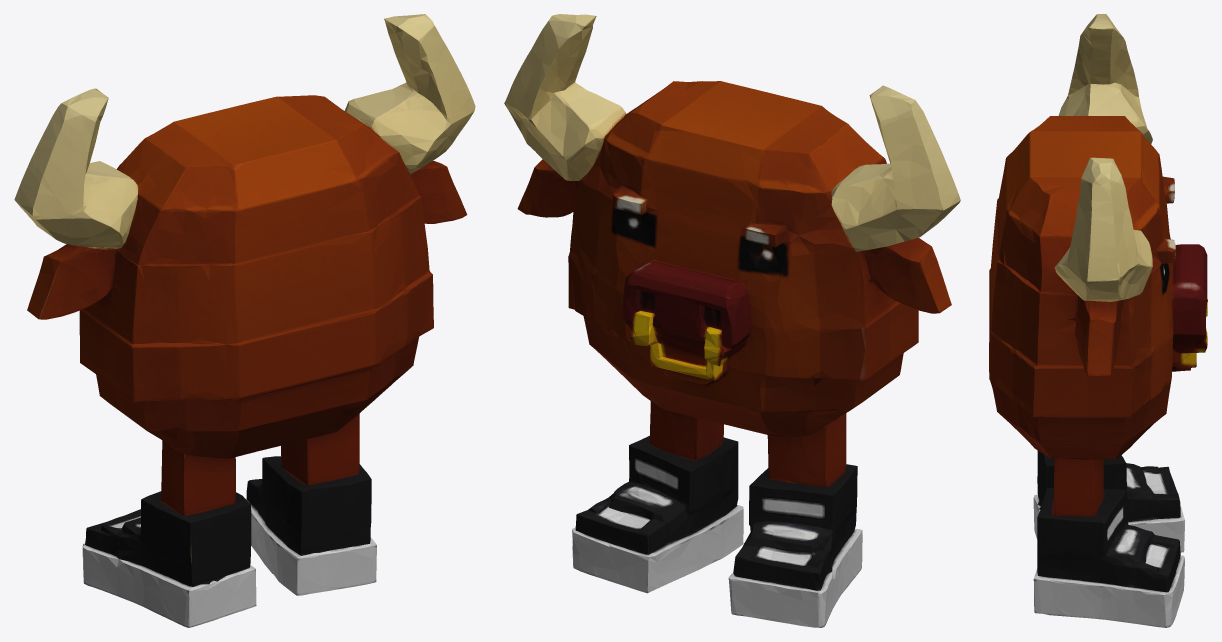
Rendered from ToroPalloncino.glb.
3 renders of one model, left to right at view 1: azimuth 30°, elevation 25°; view 2: azimuth 150°, elevation 25°; view 3: azimuth 270°, elevation 25°, orthographic. The views are drawn at different scales.
Parts seen in each view (by area): view 1: geometry_0; view 2: geometry_0; view 3: geometry_0.
Boxes of the visible parts, <box> form: geometry_0: <box>14,14,475,627</box>; geometry_0: <box>504,14,960,627</box>; geometry_0: <box>989,14,1207,627</box>.
Size of the model in its own units: 0.8899 by 1 by 0.4132.
Materials: 1 (1 with a texture image).
